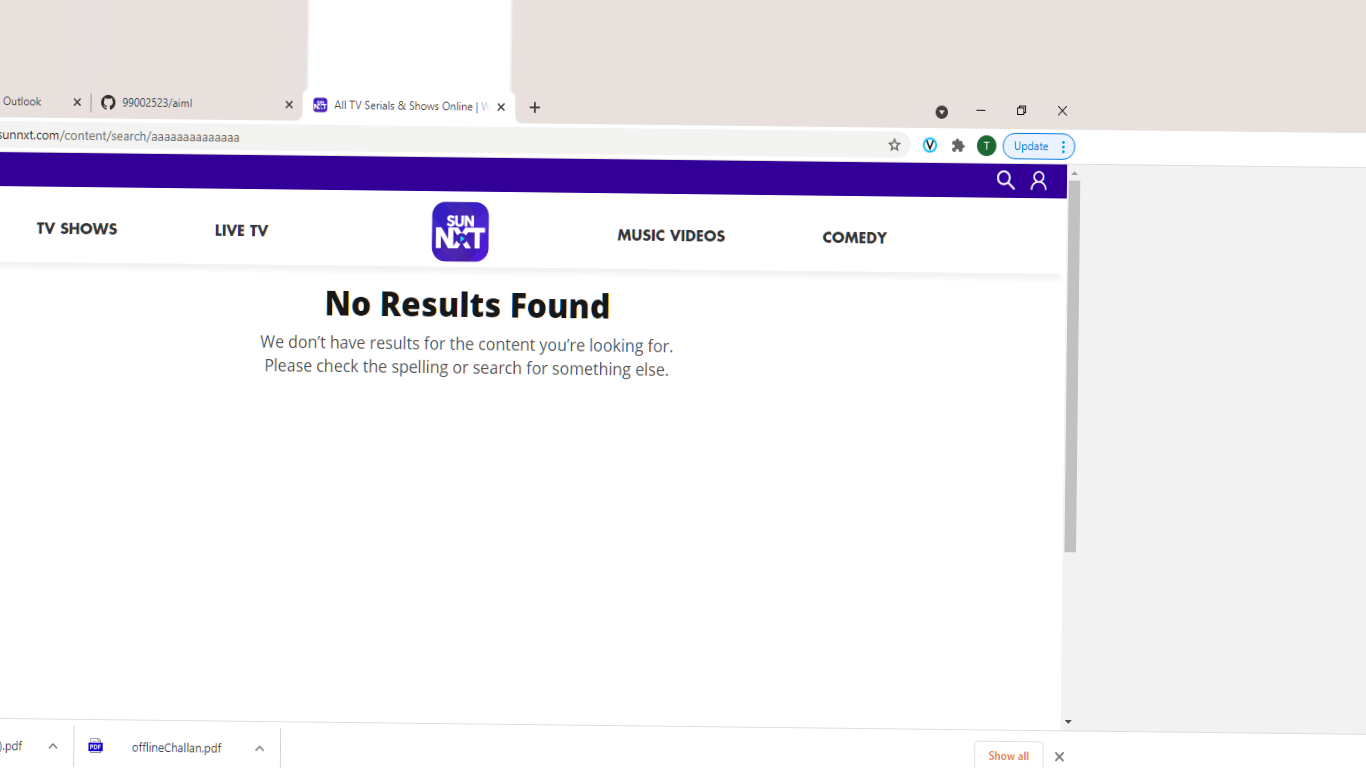noresultsfound: (182, 272, 689, 408)
profileicon: (1026, 163, 1055, 193)
searchicon: (986, 164, 1016, 196)
